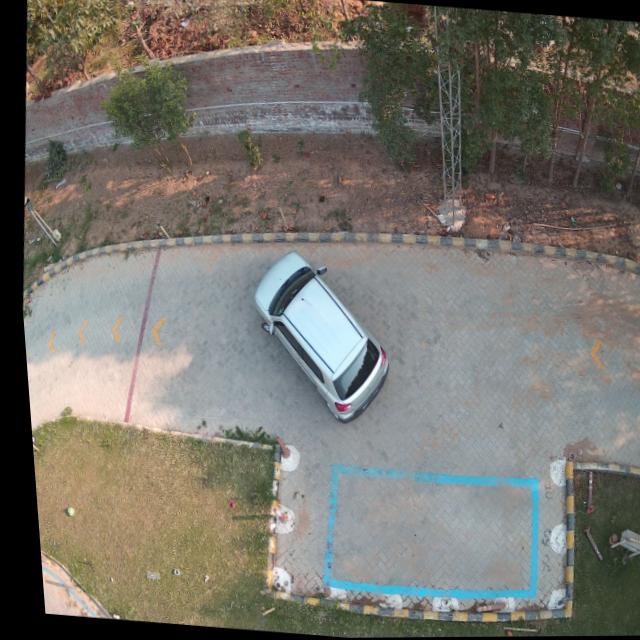car: (248, 252, 382, 423)
